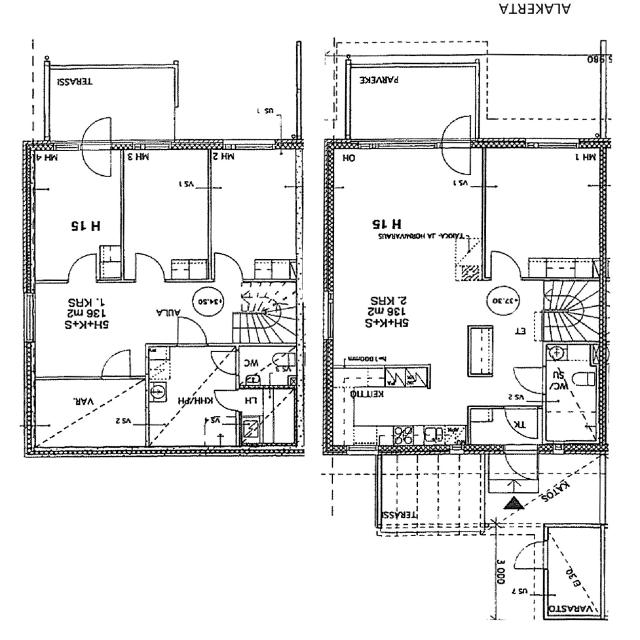door: (502, 444, 538, 480), (486, 248, 524, 282), (510, 364, 548, 397), (174, 313, 209, 347), (440, 141, 473, 177), (80, 114, 114, 148), (100, 346, 134, 379), (439, 112, 474, 143), (80, 145, 112, 178), (134, 250, 166, 282), (65, 251, 99, 281), (211, 250, 244, 280), (513, 540, 546, 570), (208, 346, 238, 376), (212, 387, 239, 412)
window: (21, 292, 39, 344), (227, 138, 279, 154), (322, 294, 336, 340), (52, 140, 80, 153)
zone: (486, 149, 604, 280), (122, 149, 212, 280), (210, 150, 299, 281), (30, 149, 123, 259), (146, 345, 238, 448), (30, 378, 149, 449), (380, 461, 484, 535), (544, 341, 600, 448), (545, 526, 603, 618), (539, 454, 602, 526), (238, 388, 296, 447), (236, 346, 298, 386), (505, 406, 543, 441), (512, 540, 545, 570)
